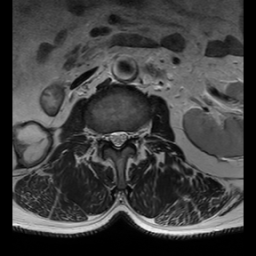CCS_stenosis: (115, 125, 121, 154)
LFS_stenosis: (129, 124, 136, 144)
LLS_normal: (121, 124, 128, 149)
RFS_stenosis: (100, 126, 108, 149)
RLS_normal: (108, 125, 115, 147)
